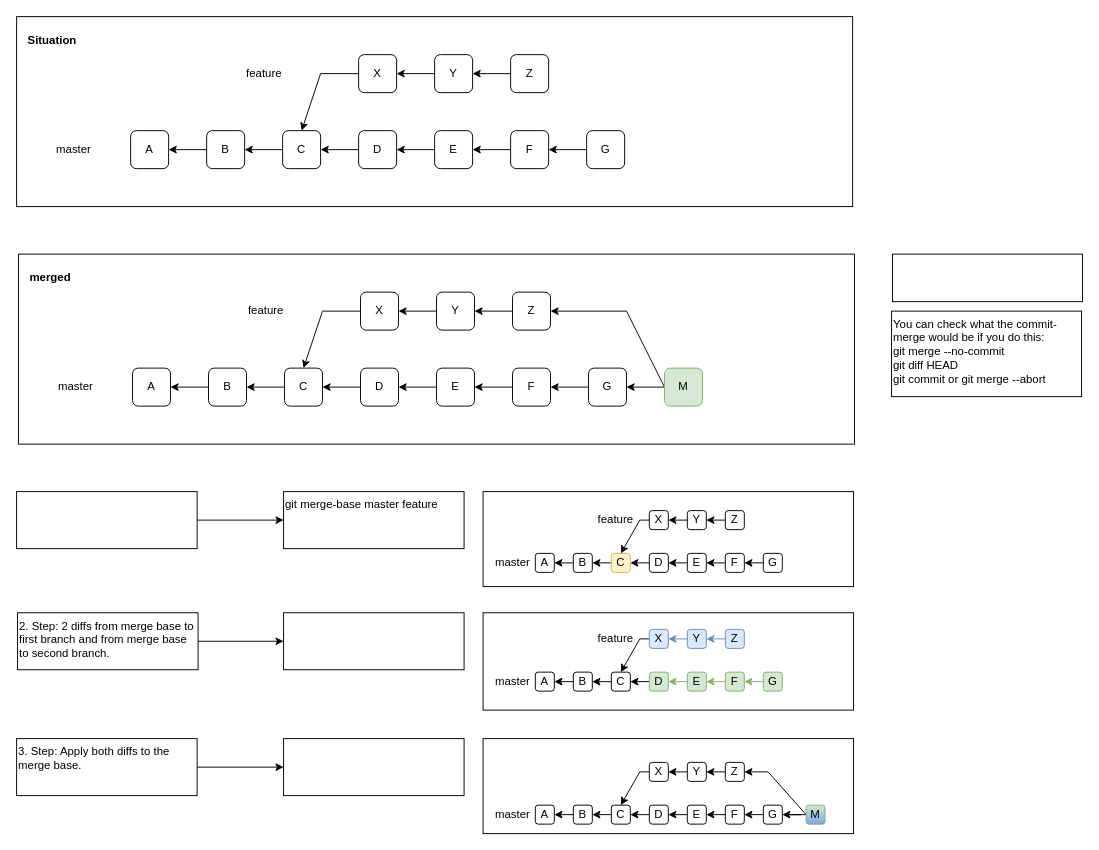
Image size: 1099x850. Some labels were removed from this diagram. Here are the shapes that lost their labels. From the top down, the box of each, then its label:
(892, 253, 1083, 302): What happened with the merge-base after merging?
(16, 491, 197, 549): 1. Step: find the common commit, called the merge base
(283, 612, 464, 670): git diff feature...master (green) git diff master...feature (blue)
(283, 738, 464, 796): git commit
